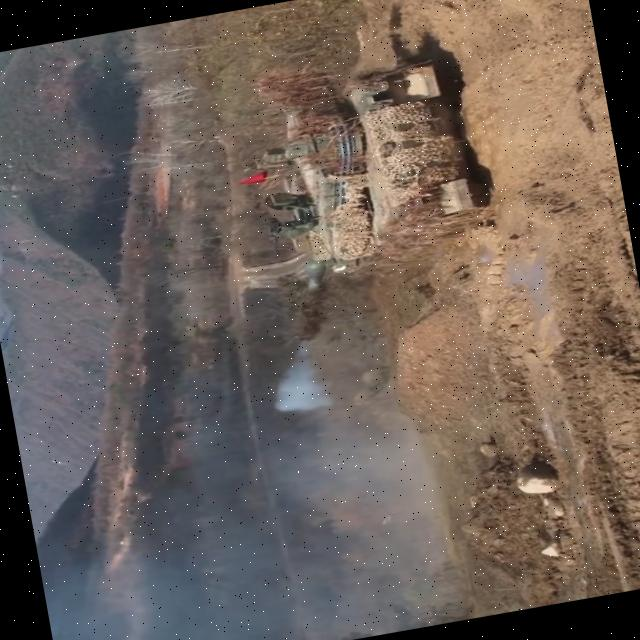korea tank: (244, 48, 514, 348)
